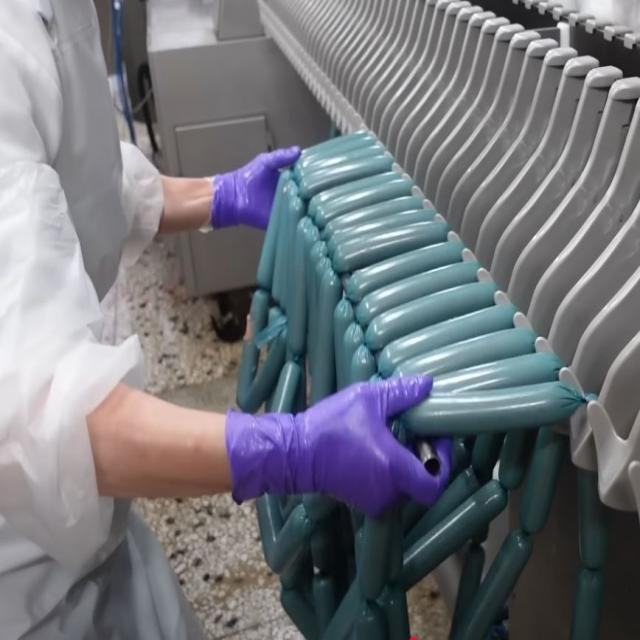gloved_hand: (220, 363, 453, 527), (206, 139, 312, 235)
